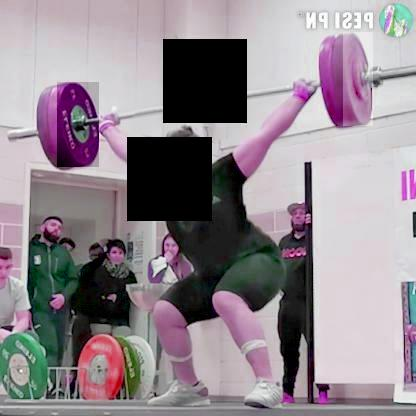barbell: (55, 83, 96, 167), (342, 32, 372, 127)
